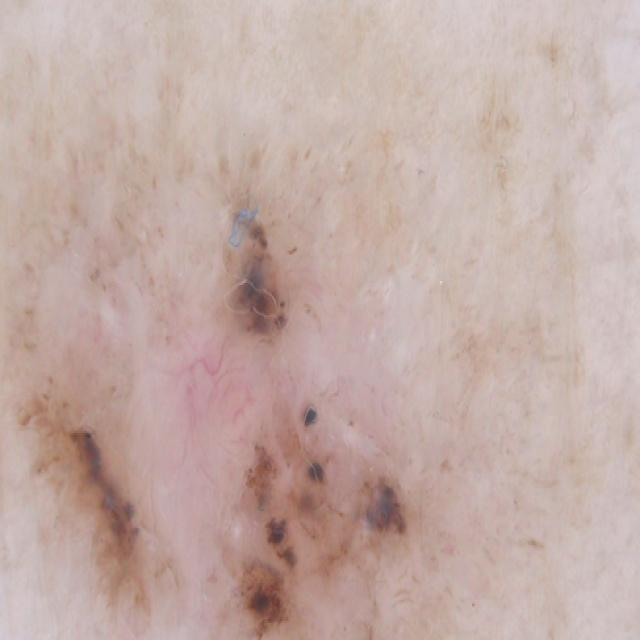Carcinoma: (0, 135, 442, 640)
